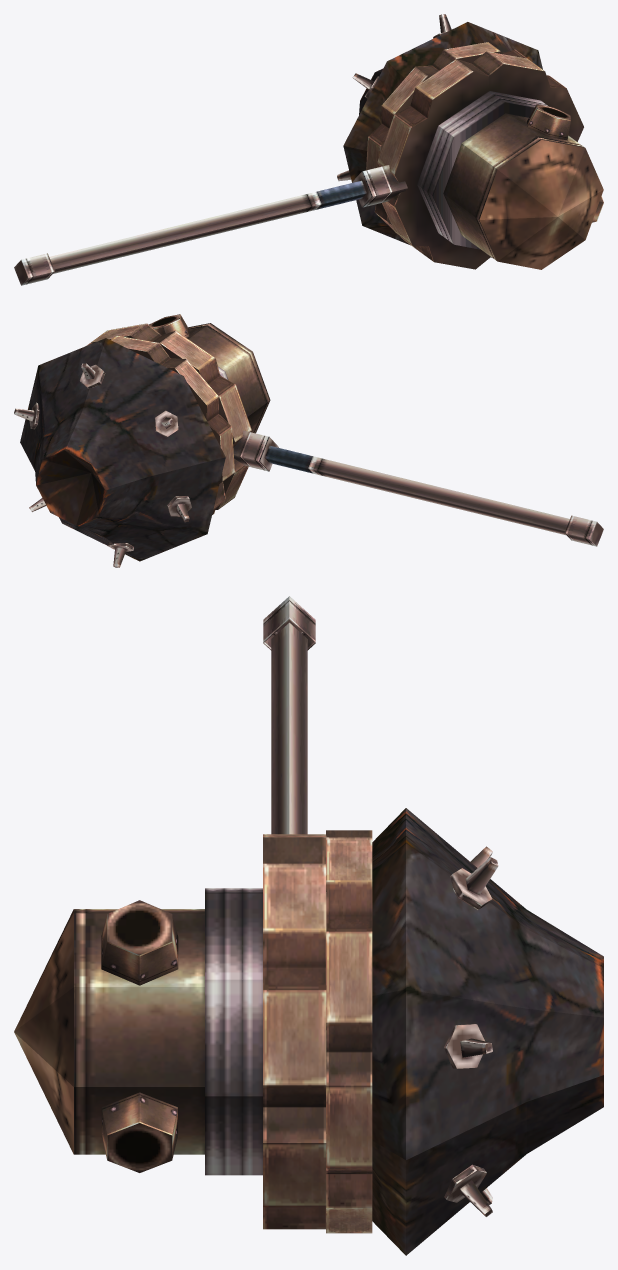
The model's file is common_righthanditem_19901.obj.
3 views of the same model, one above another, from view 1: azimuth 30°, elevation 25°; view 2: azimuth 150°, elevation 25°; view 3: azimuth 270°, elevation 25° (orthographic). The views are drawn at different scales.
Parts seen in each view (by area): view 1: chui2; view 2: chui2; view 3: chui2.
Part boxes in pixels (box(x1,y1,x2,y2)): chui2: box(14, 14, 603, 285); chui2: box(14, 314, 603, 567); chui2: box(14, 596, 603, 1255).
Bounding box in the file's own units: 109 × 41.1 × 53.87.
1 material, 1 textured.
